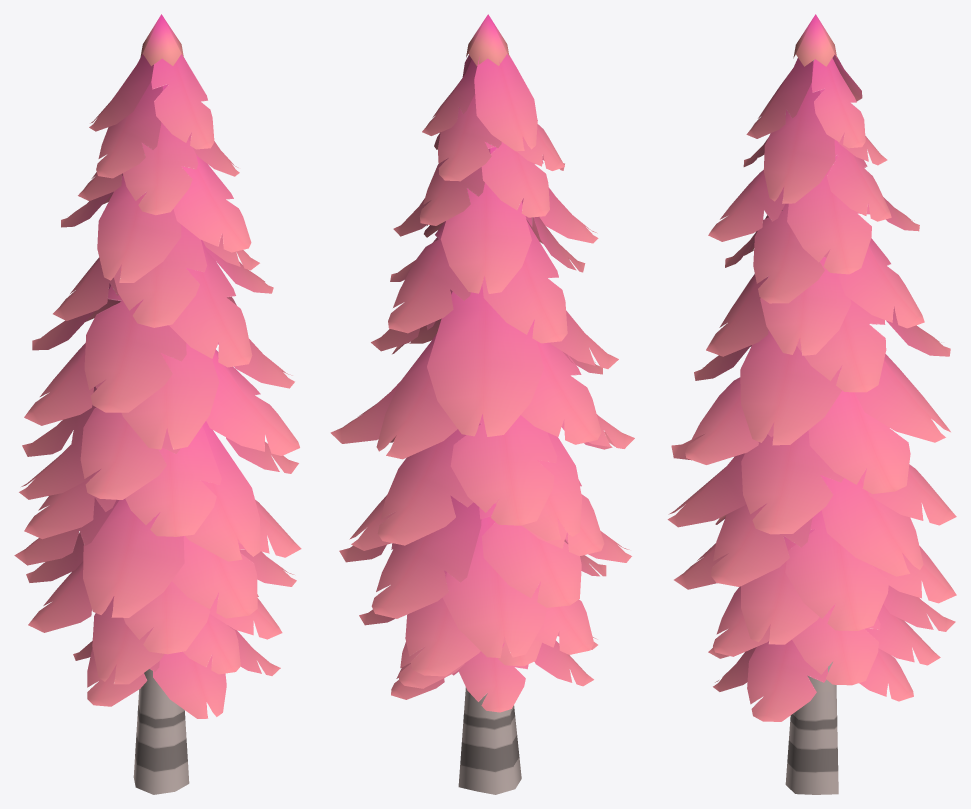
Rendered from TreeV2.fbx.
3 views of the same model, side by side, from view 1: azimuth 30°, elevation 25°; view 2: azimuth 150°, elevation 25°; view 3: azimuth 270°, elevation 25° (orthographic).
Parts seen in each view (by area): view 1: TreeV2; view 2: TreeV2; view 3: TreeV2.
Boxes of the visible parts, x1,y1,x2,y2 form: TreeV2: [14, 14, 301, 794]; TreeV2: [330, 14, 634, 794]; TreeV2: [667, 14, 956, 794].
Bounding box in the file's own units: 20.39 × 59.09 × 20.33.
1 material, 1 textured.
